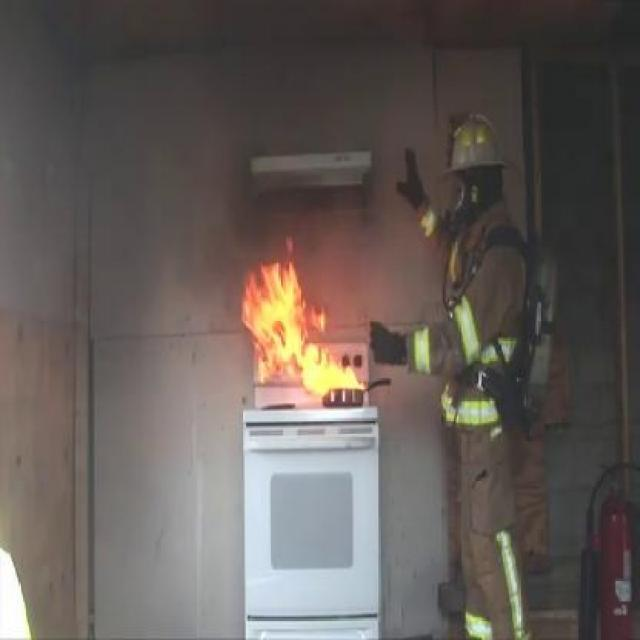fire: (242, 247, 366, 393)
